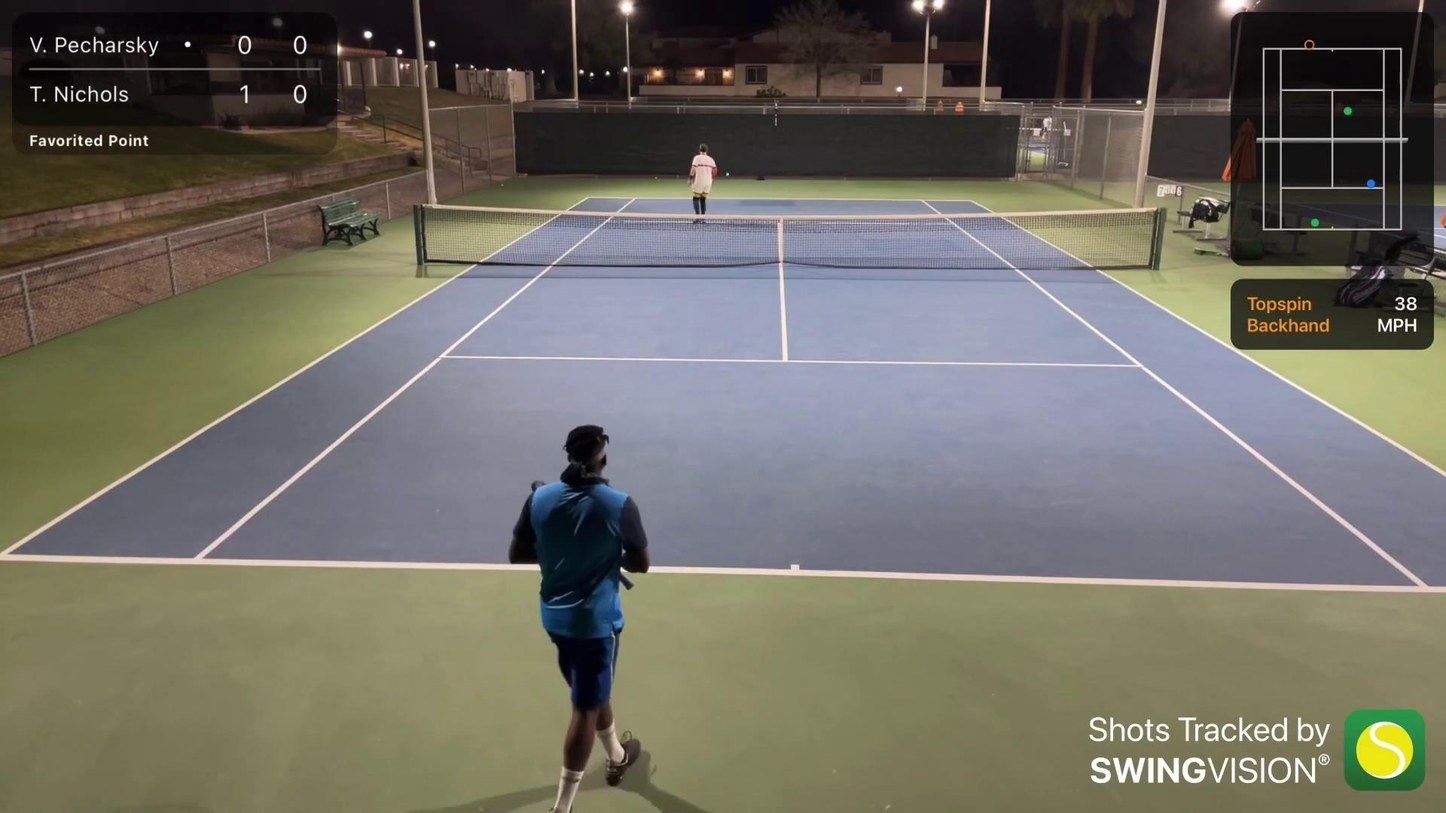ball: (723, 171, 731, 177), (498, 182, 506, 188), (652, 176, 659, 181)
